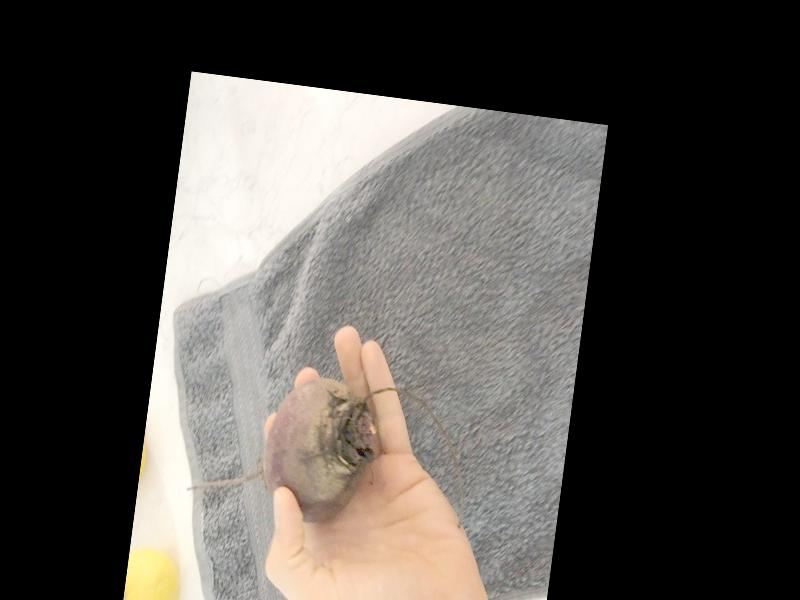Beet: (185, 364, 387, 530)
